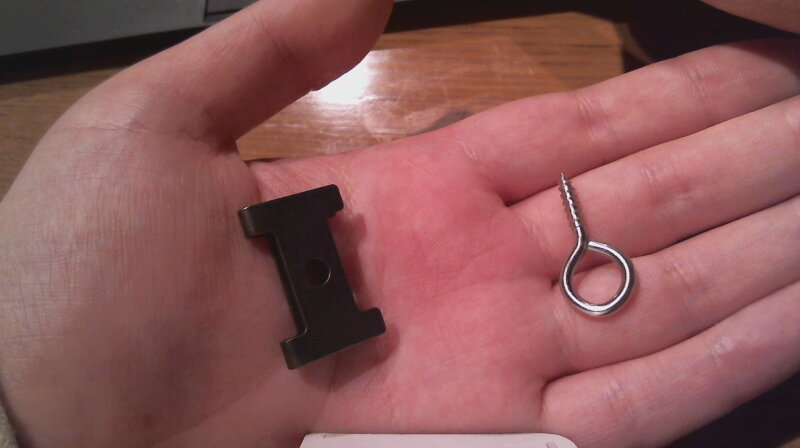O001: (547, 168, 648, 322)
O002: (232, 184, 390, 370)
